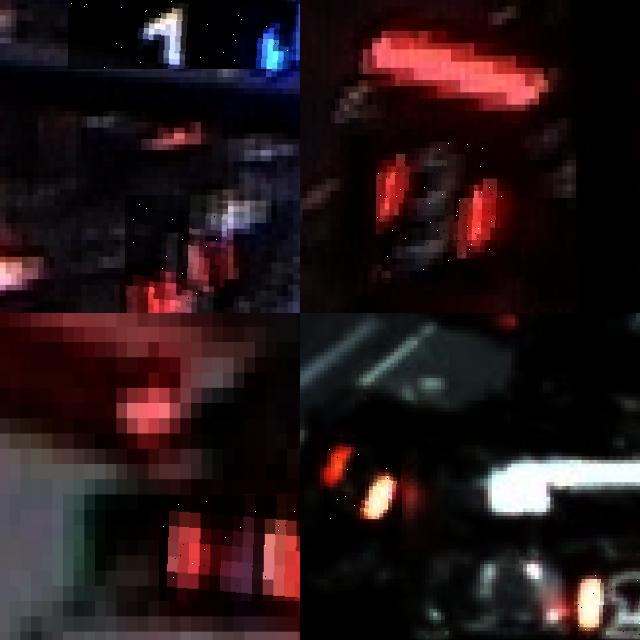B1: (68, 0, 296, 68)
R3: (376, 141, 506, 271)
R4: (158, 494, 300, 601), (125, 195, 228, 313)
Rs: (324, 438, 402, 520), (577, 571, 640, 638)
